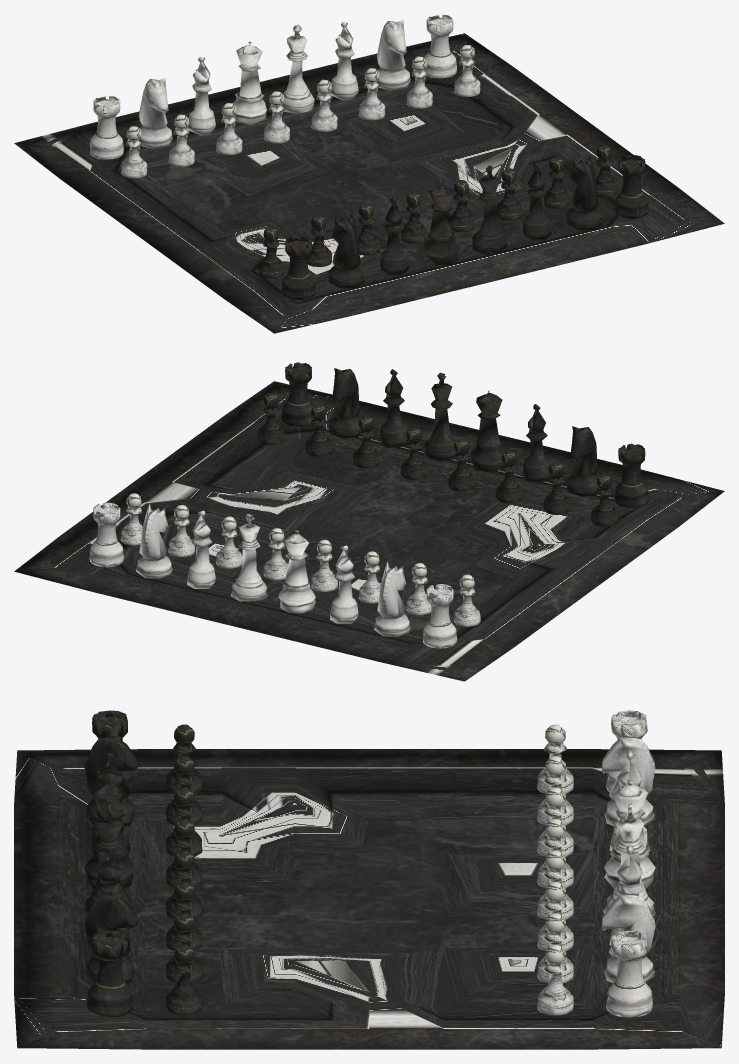
Rendered from chess_set.glb.
The picture shows the model from 3 angles, top to bottom: view 1: azimuth 30°, elevation 25°; view 2: azimuth 150°, elevation 25°; view 3: azimuth 270°, elevation 25°; orthographic projection. The views are drawn at different scales.
Parts seen in each view (by area): view 1: board, piece_queen_black, piece_queen_white, piece_knight_black_01, piece_knight_black_02, piece_knight_white_01, piece_knight_white_02, piece_king_black, piece_rook_black_01, piece_rook_white_02, piece_king_white, piece_rook_black_02 (+21 smaller); view 2: board, piece_queen_white, piece_queen_black, piece_knight_white_02, piece_knight_white_01, piece_knight_black_01, piece_knight_black_02, piece_king_white, piece_rook_white_01, piece_rook_white_02, piece_king_black, piece_rook_black_01 (+21 smaller); view 3: board, piece_rook_white_01, piece_rook_black_02, piece_knight_white_01, piece_knight_black_02, piece_knight_black_01, piece_knight_white_02, piece_queen_white, piece_queen_black, piece_pawn_black_08, piece_pawn_white_01, piece_king_black (+21 smaller).
Boxes of the visible parts, x1,y1,x2,y2 form: board: (14, 33, 724, 333); piece_queen_black: (424, 184, 459, 265); piece_queen_white: (232, 41, 266, 124); piece_knight_black_01: (327, 213, 364, 288); piece_knight_black_02: (565, 155, 602, 230); piece_knight_white_01: (376, 19, 410, 90); piece_knight_white_02: (138, 77, 172, 148); piece_king_black: (472, 165, 507, 254); piece_rook_black_01: (281, 236, 315, 300); piece_rook_white_02: (90, 96, 123, 159); piece_king_white: (281, 24, 314, 113); piece_rook_black_02: (614, 155, 648, 218); board: (14, 381, 724, 681); piece_queen_white: (278, 530, 315, 613); piece_queen_black: (470, 390, 505, 472); piece_knight_white_02: (374, 561, 410, 636); piece_knight_white_01: (136, 503, 172, 578); piece_knight_black_01: (566, 426, 598, 496); piece_knight_black_02: (328, 368, 360, 438); piece_king_white: (231, 513, 267, 601); piece_rook_white_01: (89, 502, 123, 567); piece_rook_white_02: (423, 584, 457, 648); piece_king_black: (423, 372, 456, 461); piece_rook_black_01: (614, 443, 649, 507); board: (14, 749, 724, 1049); piece_rook_white_01: (606, 930, 652, 1017); piece_rook_black_02: (87, 930, 133, 1017); piece_knight_white_01: (602, 885, 655, 982); piece_knight_black_02: (84, 884, 137, 983); piece_knight_black_01: (84, 727, 137, 827); piece_knight_white_02: (602, 728, 655, 826); piece_queen_white: (604, 779, 655, 889); piece_queen_black: (84, 780, 135, 888); piece_pawn_black_08: (166, 944, 202, 1015); piece_pawn_white_01: (537, 944, 573, 1015); piece_king_black: (83, 803, 132, 915).
Size of the model in its own units: 0.5532 by 0.1103 by 0.5532.
3 materials, 3 textured.
